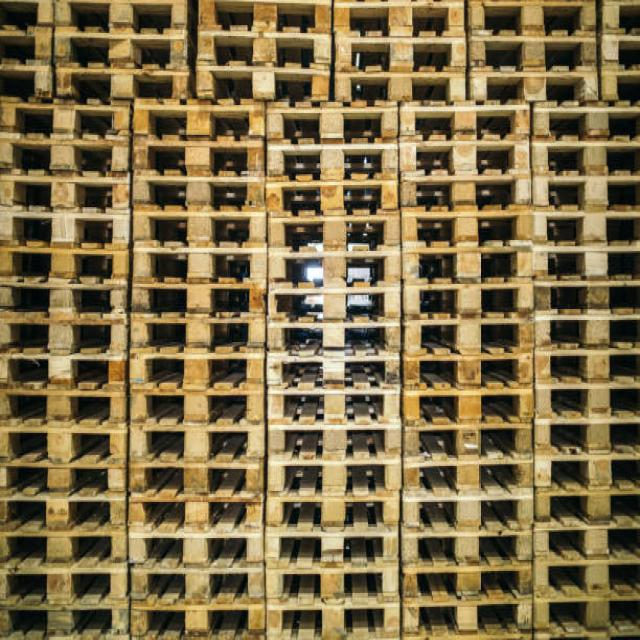Wooden-Pallets: (260, 422, 396, 468), (132, 171, 262, 217), (192, 64, 327, 107), (401, 310, 534, 352), (264, 318, 399, 358), (131, 244, 265, 284), (193, 0, 326, 40), (128, 463, 264, 502), (266, 570, 399, 609), (128, 602, 266, 639), (400, 566, 535, 603), (273, 218, 397, 255), (128, 354, 262, 388), (268, 496, 397, 530), (405, 495, 530, 529), (403, 392, 536, 422), (397, 144, 525, 174), (128, 536, 262, 562)
